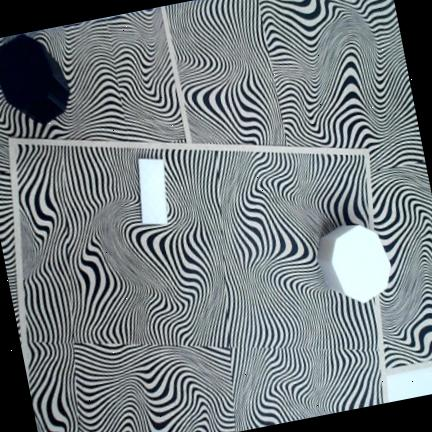Paralelepipedo: (138, 158, 168, 225)
Prisma_hexagonal: (0, 35, 70, 123), (317, 225, 391, 304)
